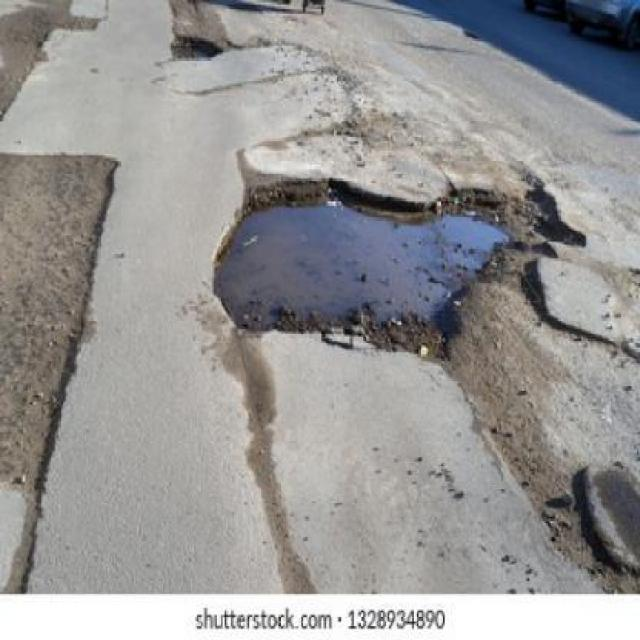Pothole: (210, 174, 578, 361), (169, 32, 225, 62)
